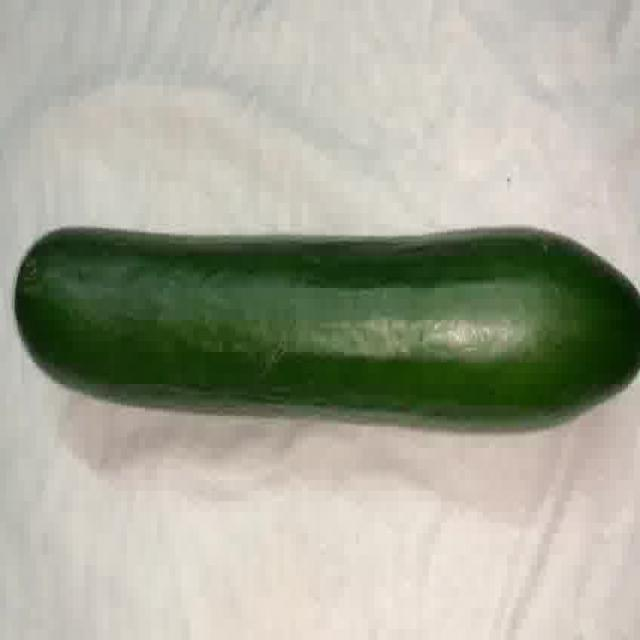Cucumber: (13, 227, 640, 436)
